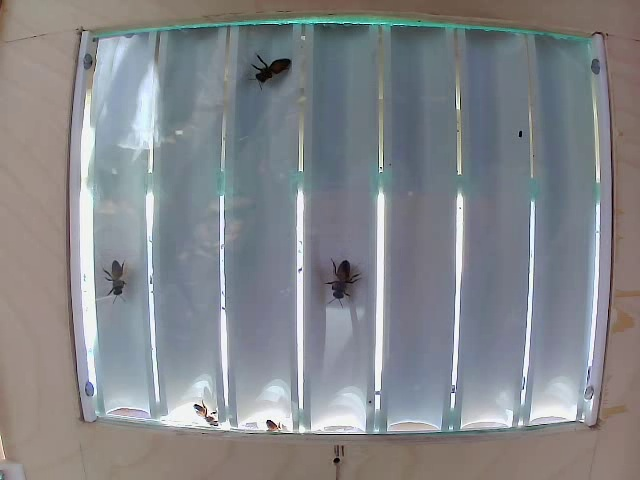bee: (250, 46, 303, 97), (185, 390, 223, 430), (100, 267, 137, 302), (332, 254, 356, 297)
